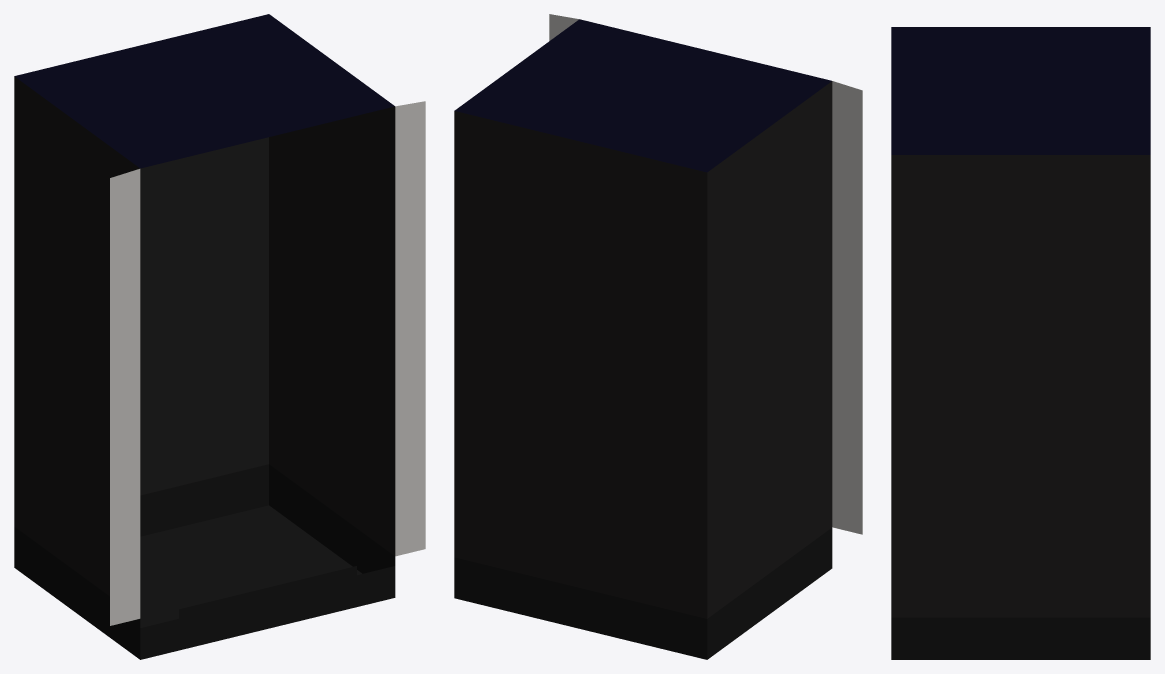
The model's file is wall.fbx.
The picture shows the model from 3 angles, left to right: view 1: azimuth 30°, elevation 25°; view 2: azimuth 150°, elevation 25°; view 3: azimuth 270°, elevation 25°; orthographic projection. The views are drawn at different scales.
Visible parts, largest first — view 1: wall; view 2: wall; view 3: wall.
Part boxes in pixels (<box>): wall: <box>14,14,425,659</box>; wall: <box>454,14,862,659</box>; wall: <box>891,27,1150,659</box>.
Bounding box in the file's own units: 18.93 × 28.14 × 13.1.
